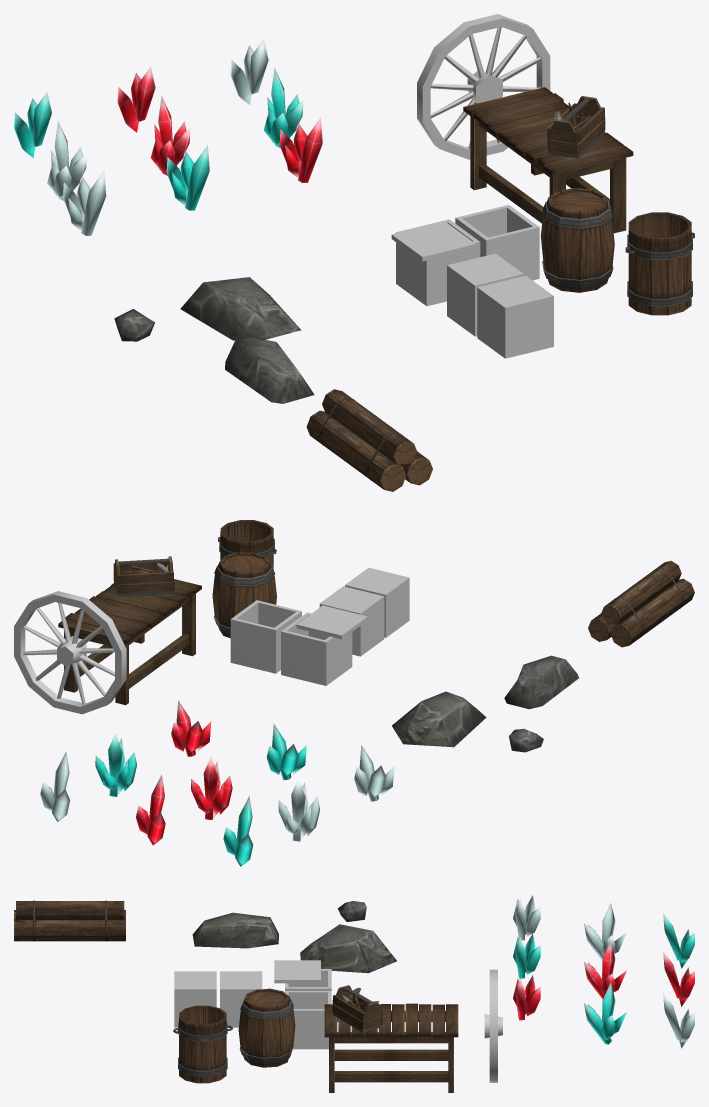
File: assets1.fbx
3 views of the same model, one above another, from view 1: azimuth 30°, elevation 25°; view 2: azimuth 150°, elevation 25°; view 3: azimuth 270°, elevation 25° (orthographic). The views are drawn at different scales.
Visible parts, largest first — view 1: Table, Cart_wheel, Barrel_2, Wooden_log, Barrel_1, Crate_3, Rock_03, crate_3_3, Rock_04, Crate_1, crate_3_1, Tool_kit (+11 smaller); view 2: Table, Cart_wheel, Wooden_log, Barrel_2, crate_3_3, crate_3_1, Rock_03, Rock_04, Crate_1, Crate_3, Tool_kit, Barrel_1 (+11 smaller); view 3: Table, Wooden_log, Barrel_2, Barrel_1, Rock_03, Rock_04, crate_3_3, Tool_kit, Crate_3, Crate_1, Cart_wheel, crate_3_2 (+11 smaller).
Boxes of the visible parts, x1=… form: Table: x1=463, y1=87, x2=633, y2=233; Cart_wheel: x1=417, y1=14, x2=550, y2=159; Barrel_2: x1=540, y1=188, x2=614, y2=292; Wooden_log: x1=306, y1=389, x2=432, y2=491; Barrel_1: x1=625, y1=212, x2=694, y2=315; Crate_3: x1=477, y1=275, x2=553, y2=358; Rock_03: x1=180, y1=277, x2=301, y2=340; crate_3_3: x1=455, y1=205, x2=539, y2=280; Rock_04: x1=225, y1=337, x2=314, y2=403; Crate_1: x1=447, y1=253, x2=523, y2=336; crate_3_1: x1=396, y1=219, x2=480, y2=306; Tool_kit: x1=547, y1=96, x2=605, y2=158; Table: x1=58, y1=579, x2=201, y2=705; Cart_wheel: x1=14, y1=591, x2=126, y2=714; Wooden_log: x1=588, y1=560, x2=694, y2=647; Barrel_2: x1=212, y1=552, x2=276, y2=638; crate_3_3: x1=230, y1=600, x2=301, y2=673; crate_3_1: x1=281, y1=612, x2=352, y2=685; Rock_03: x1=392, y1=691, x2=486, y2=747; Rock_04: x1=504, y1=655, x2=578, y2=709; Crate_1: x1=319, y1=586, x2=384, y2=656; Crate_3: x1=345, y1=567, x2=409, y2=637; Tool_kit: x1=113, y1=556, x2=174, y2=596; Barrel_1: x1=218, y1=520, x2=276, y2=568; Table: x1=324, y1=1003, x2=458, y2=1092; Wooden_log: x1=14, y1=900, x2=125, y2=941; Barrel_2: x1=238, y1=988, x2=295, y2=1067; Barrel_1: x1=173, y1=1005, x2=232, y2=1083; Rock_03: x1=300, y1=924, x2=396, y2=973; Rock_04: x1=192, y1=912, x2=278, y2=948; crate_3_3: x1=285, y1=991, x2=331, y2=1049; Tool_kit: x1=332, y1=985, x2=383, y2=1032; Crate_3: x1=174, y1=971, x2=216, y2=1027; Crate_1: x1=220, y1=971, x2=262, y2=1027; Cart_wheel: x1=484, y1=969, x2=502, y2=1082; crate_3_2: x1=274, y1=960, x2=320, y2=983.
Size of the model in its own units: 532 by 147 by 792.
